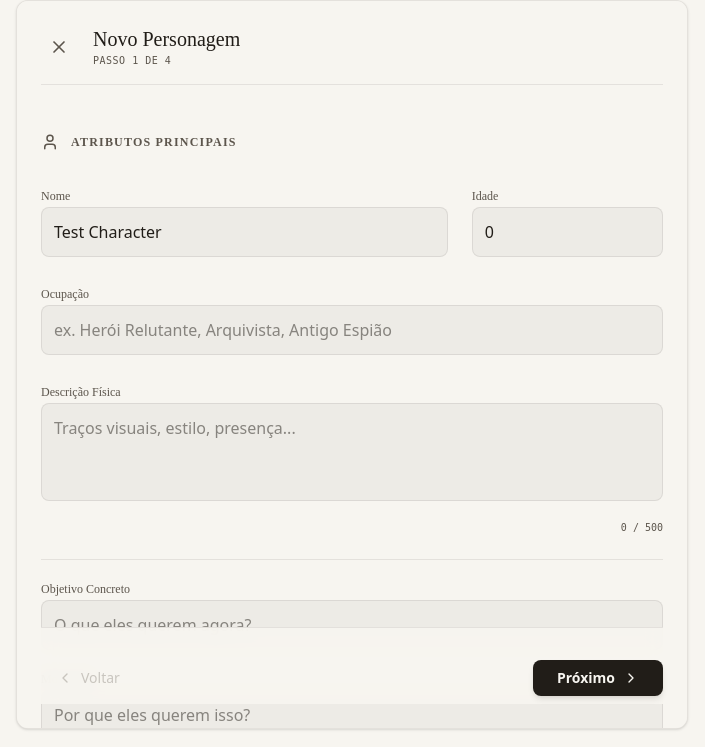
Test case: CharacterWizard › should persist data when switching steps
# Enter name in step 1
Replace the text in the field with placeholder "Nome do Personagem" with "Updated Name": x=244, y=232 top-left (41, 207), bottom-right (448, 257)
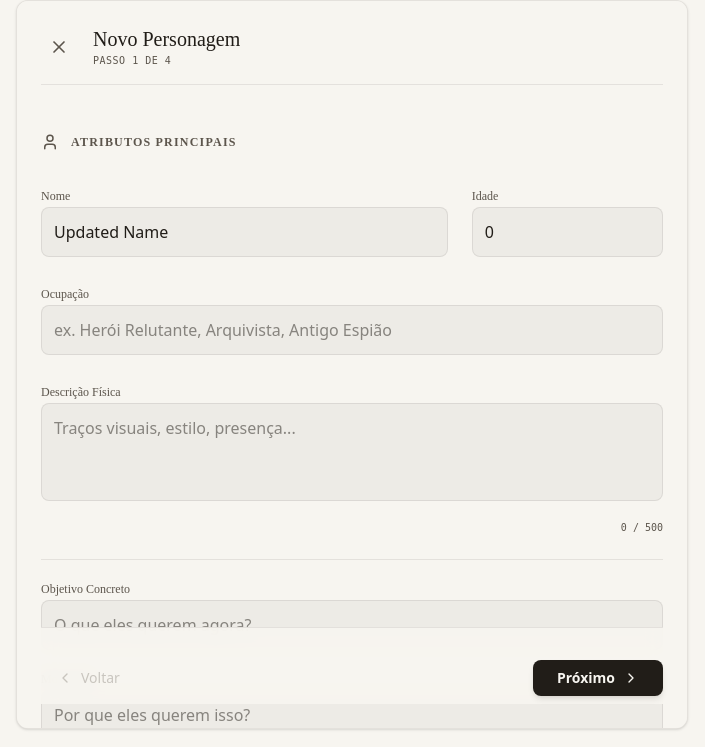
# Go to Step 2
Click the button "Próximo": x=598, y=678 top-left (533, 660), bottom-right (663, 696)
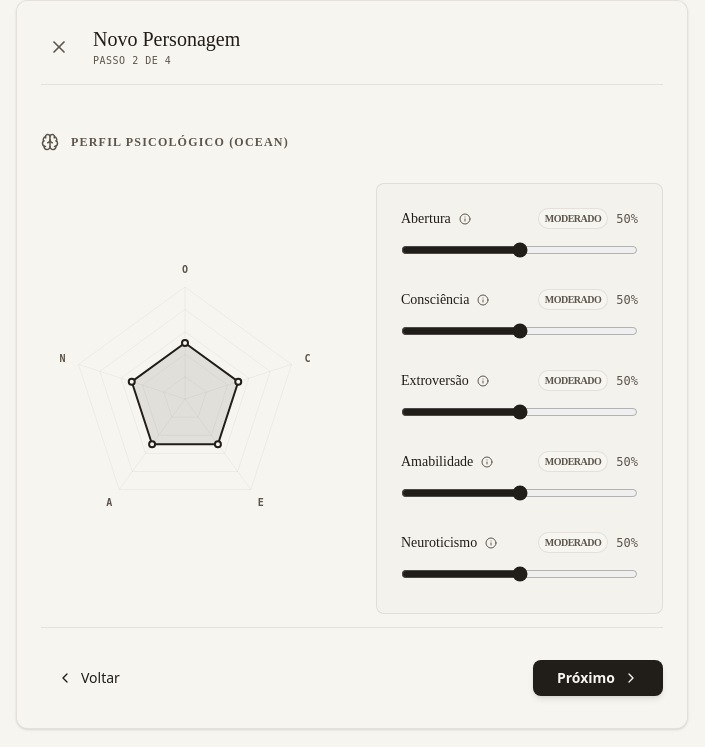
# Go back to Step 1
Click the button "Voltar": x=88, y=678 top-left (41, 660), bottom-right (136, 696)
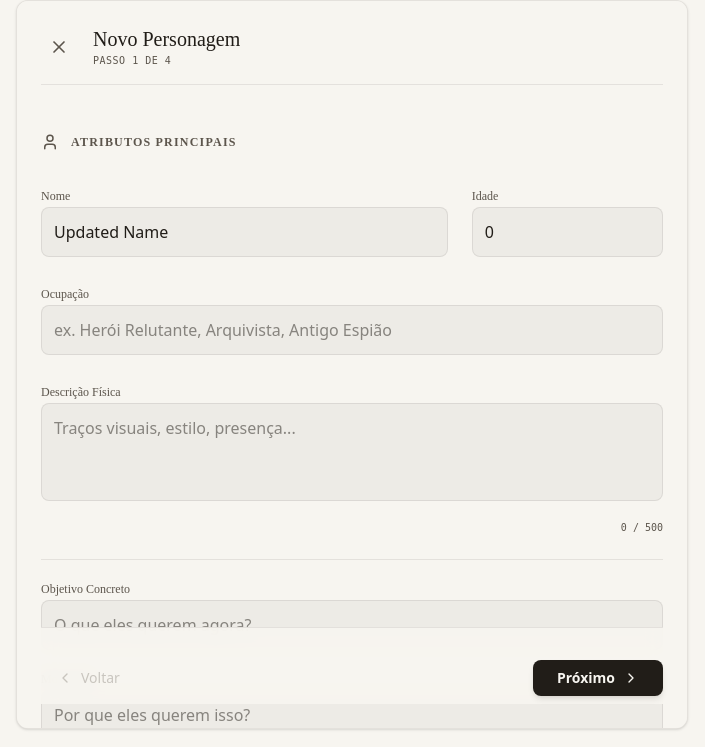
Expected: the field showing "Updated Name" is shown, top-left (41, 207), bottom-right (448, 257)
